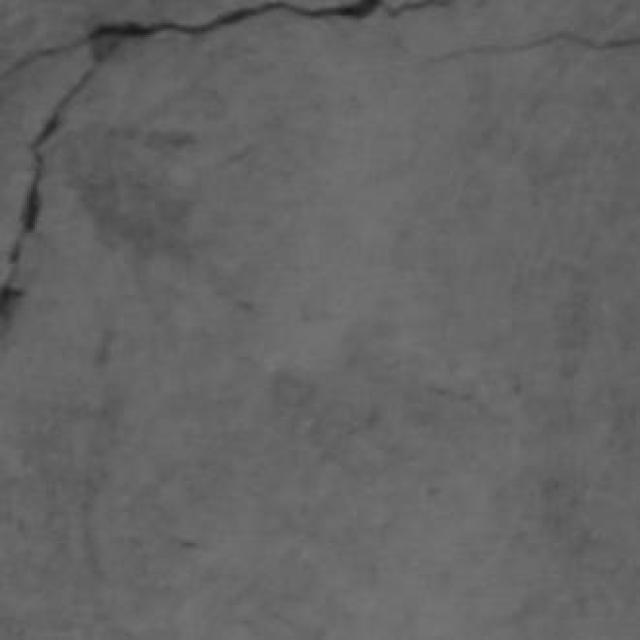crack: (0, 0, 453, 329), (0, 0, 449, 329), (427, 32, 639, 63)
